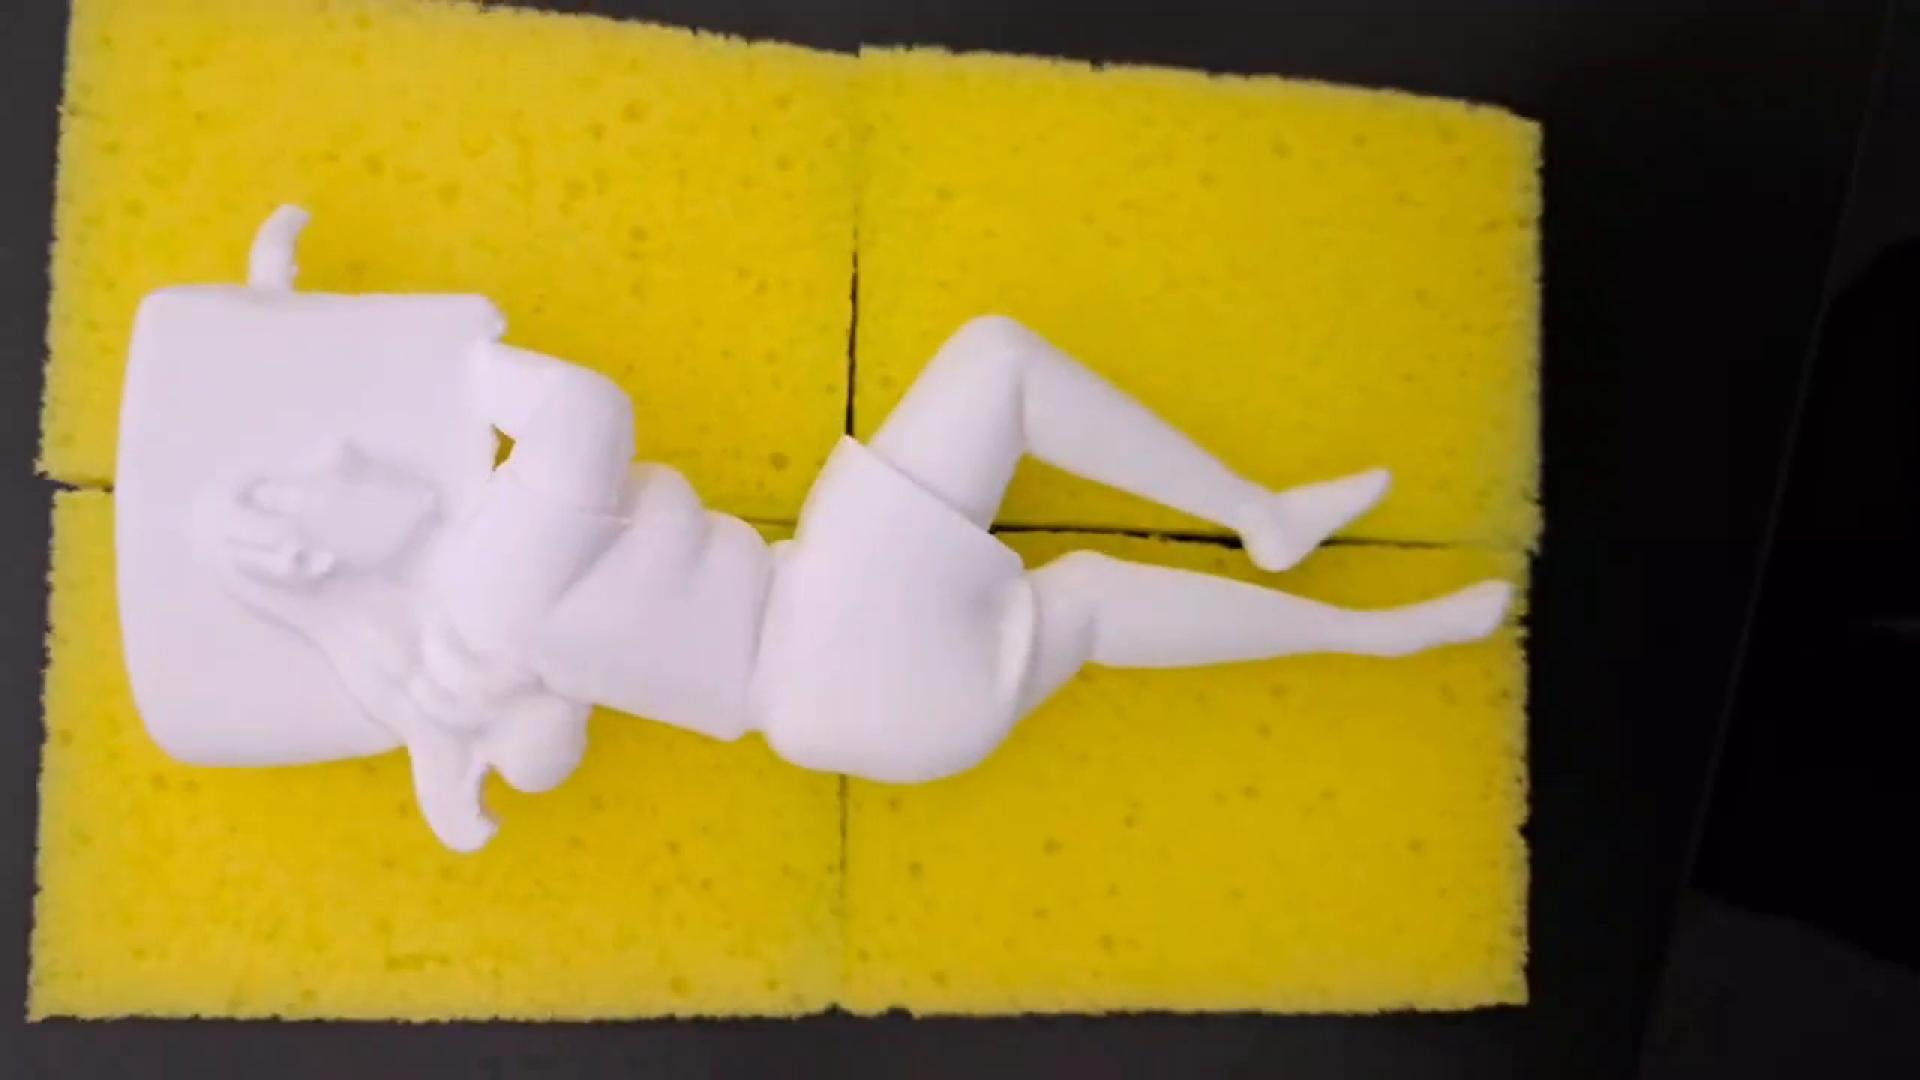Good-style: (115, 202, 1514, 853)
